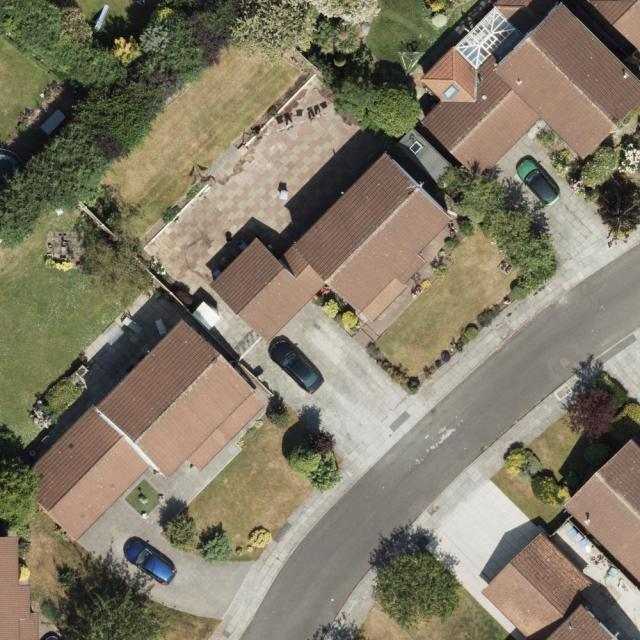roof: (212, 125, 468, 344), (28, 315, 267, 544), (417, 0, 640, 178), (482, 532, 623, 640), (561, 435, 640, 590), (0, 534, 41, 640)
skylight: (456, 6, 519, 72), (442, 82, 461, 100), (407, 139, 426, 154)
